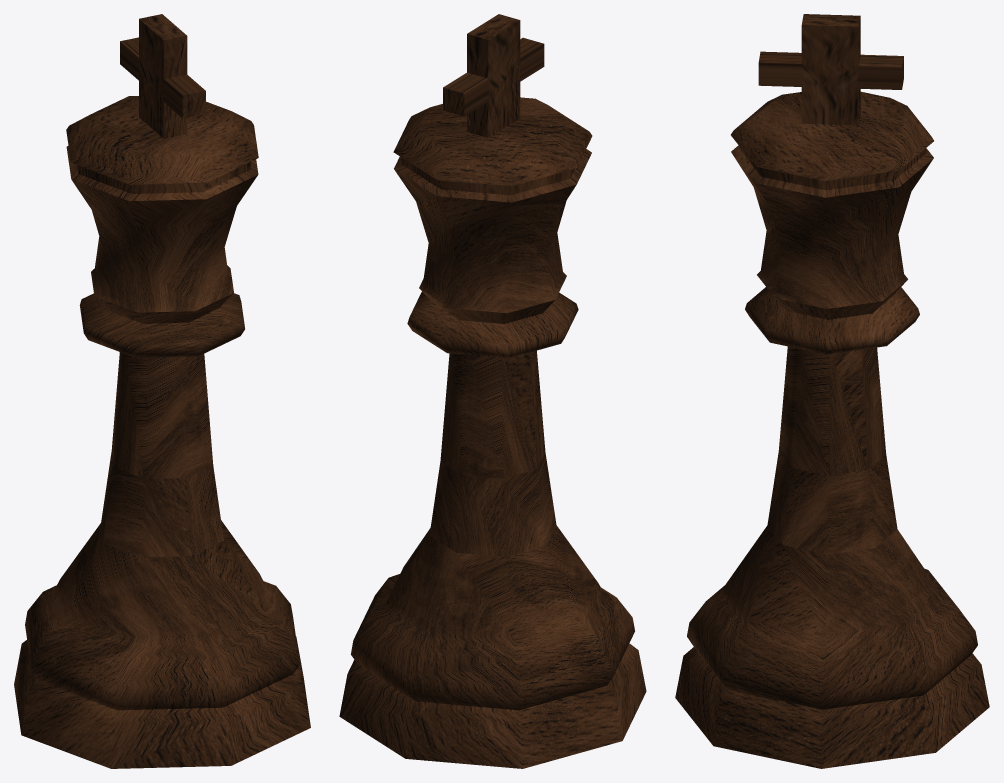
The model's file is BlackKing.gltf.
3 views of the same model, side by side, from view 1: azimuth 30°, elevation 25°; view 2: azimuth 150°, elevation 25°; view 3: azimuth 270°, elevation 25° (orthographic).
Visible parts, largest first — view 1: Object_26; view 2: Object_26; view 3: Object_26.
Boxes of the visible parts, left/top/right/bottom form: Object_26: left=14, top=14, right=310, bottom=768; Object_26: left=339, top=14, right=646, bottom=768; Object_26: left=675, top=14, right=989, bottom=768.
Bounding box in the file's own units: 0.0296 × 0.0709 × 0.0296.
1 material, 1 textured.
